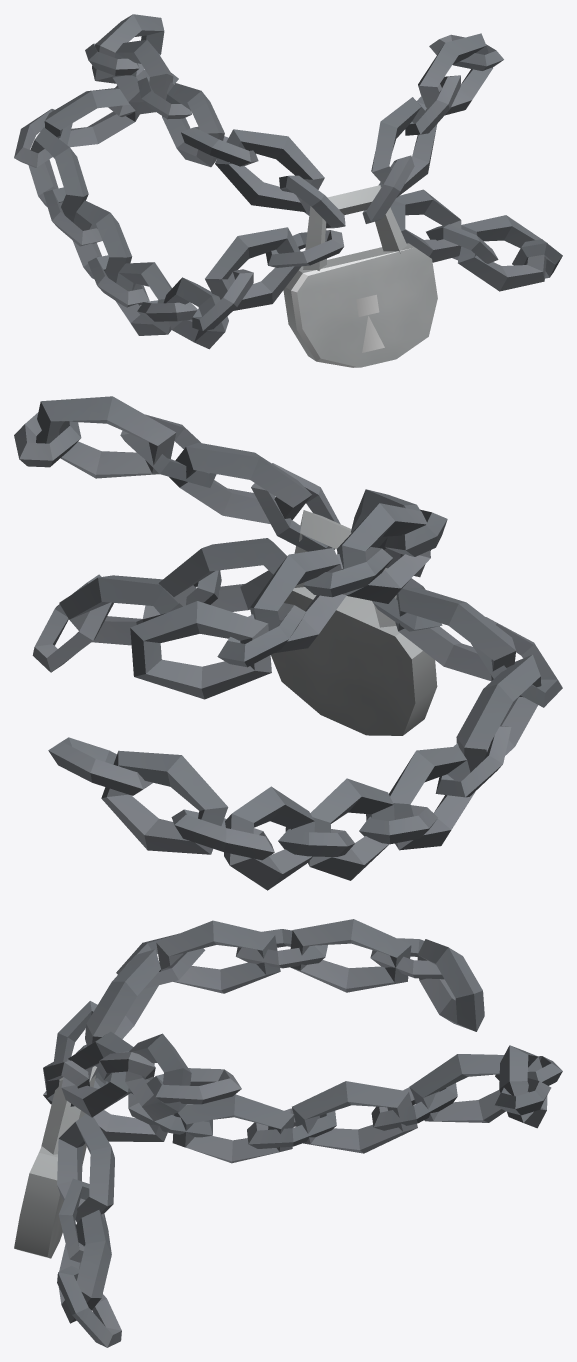
The model's file is chain_test.fbx.
The picture shows the model from 3 angles, top to bottom: view 1: azimuth 30°, elevation 25°; view 2: azimuth 150°, elevation 25°; view 3: azimuth 270°, elevation 25°; orthographic projection. The views are drawn at different scales.
Visible parts, largest first — view 1: polySurface5; view 2: polySurface5; view 3: polySurface5.
Boxes of the visible parts, box(x1,y1,x2,y2) form: polySurface5: box(14, 14, 562, 367); polySurface5: box(14, 396, 562, 890); polySurface5: box(14, 919, 562, 1347).
Size of the model in its own units: 281 by 178 by 306.
1 material, 1 textured.
